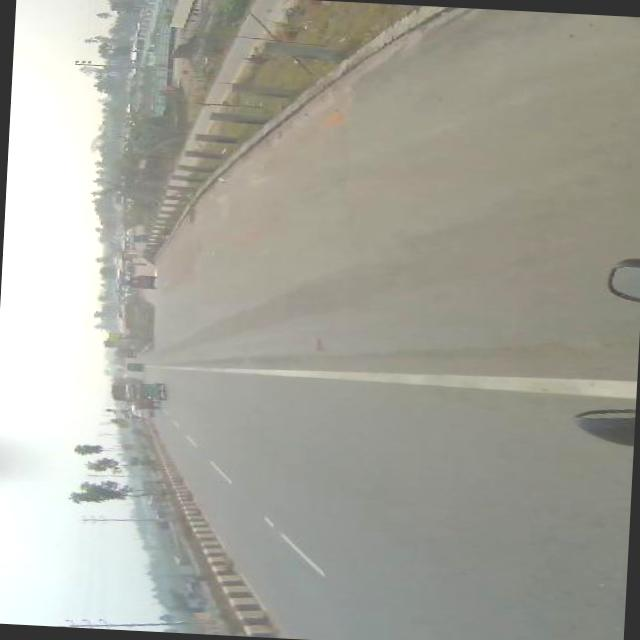car: (132, 408, 154, 416), (123, 227, 133, 240)
motorcycle: (122, 380, 164, 399), (125, 360, 142, 370), (135, 260, 145, 264)
truck: (128, 273, 157, 288), (113, 346, 135, 356)
